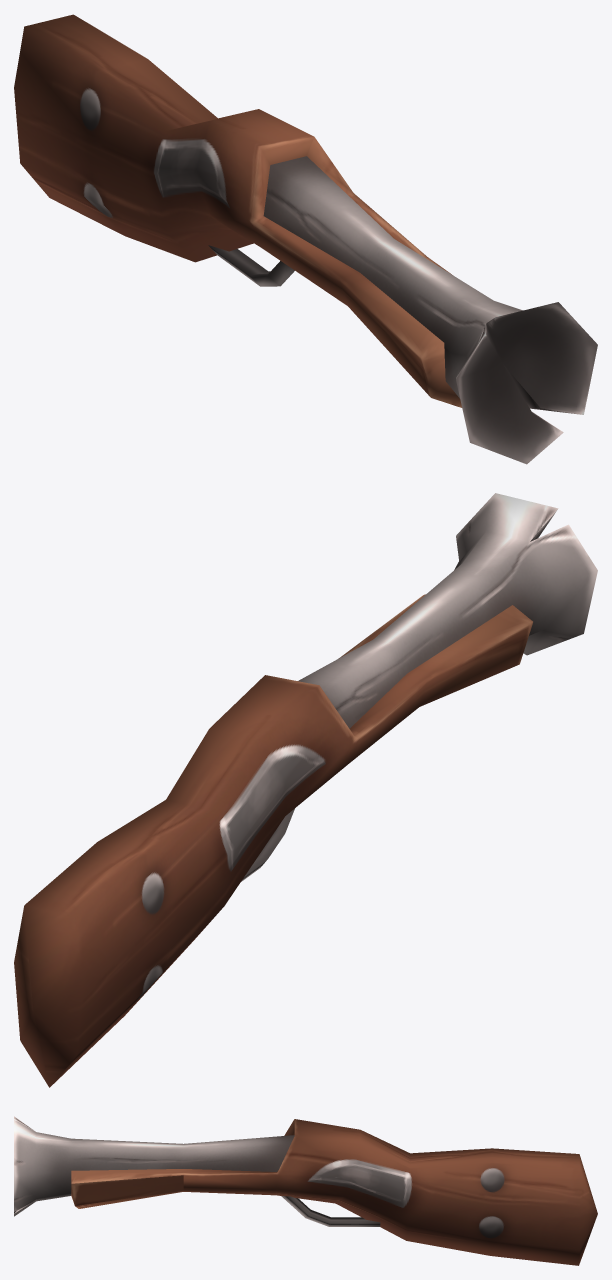
Rendered from Rifle.fbx.
3 views of the same model, one above another, from view 1: azimuth 30°, elevation 25°; view 2: azimuth 150°, elevation 25°; view 3: azimuth 270°, elevation 25° (orthographic). The views are drawn at different scales.
Visible parts, largest first — view 1: Rifle; view 2: Rifle; view 3: Rifle.
Part boxes in pixels (box(x1,y1,x2,y2)): Rifle: box(14, 14, 597, 464); Rifle: box(14, 493, 597, 1087); Rifle: box(14, 1116, 597, 1265).
Bounding box in the file's own units: 10.99 × 17.58 × 66.13.
